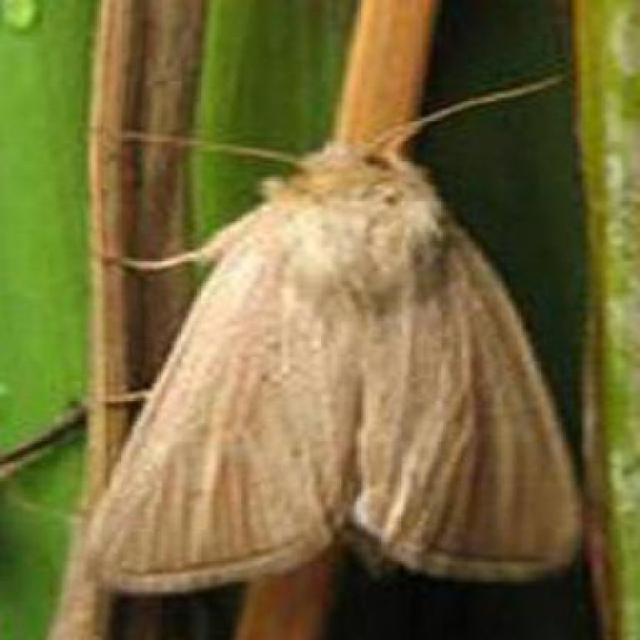stem-borer: (82, 71, 588, 595)
